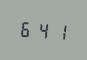four: (35, 19, 50, 40)
one: (51, 20, 66, 41)
six: (18, 18, 33, 39)
